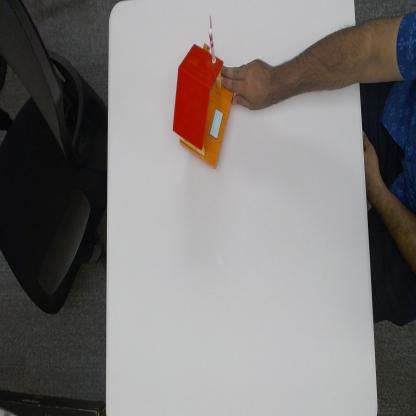Arm: (276, 35, 362, 100)
Hand: (224, 60, 275, 109)
House: (170, 42, 235, 169)
